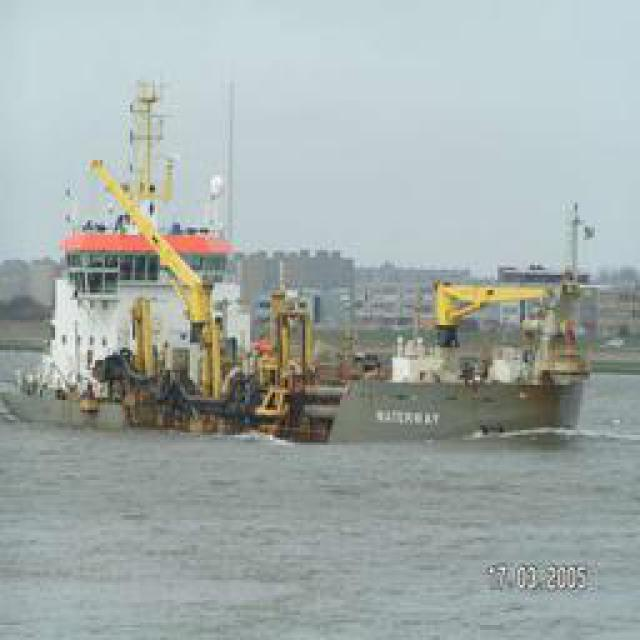Ship: (22, 82, 594, 443)
